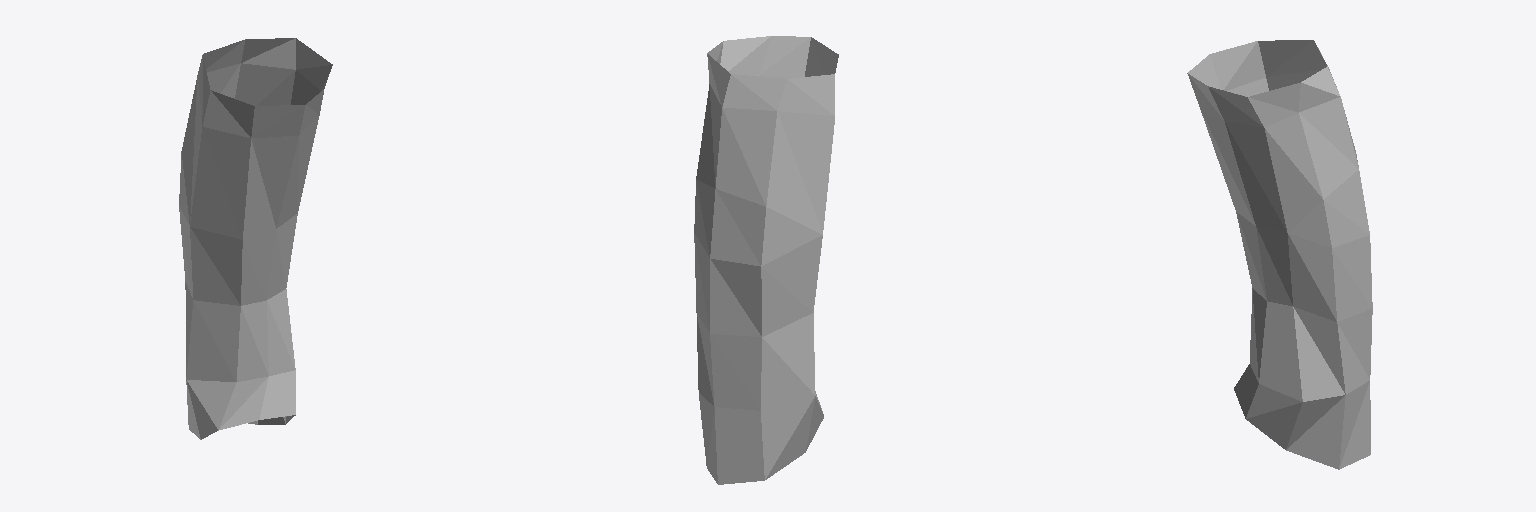
Rendered from human_rightcalve.obj.
The picture shows the model from 3 angles: view 1: azimuth 30°, elevation 25°; view 2: azimuth 150°, elevation 25°; view 3: azimuth 270°, elevation 25°; orthographic projection.
Parts seen in each view (by area): view 1: Right_Calve; view 2: Right_Calve; view 3: Right_Calve.
Boxes of the visible parts, <box> form: Right_Calve: <box>179,38,332,439</box>; Right_Calve: <box>694,36,838,484</box>; Right_Calve: <box>1187,40,1372,469</box>.
Size of the model in its own units: 0.2654 by 0.831 by 0.3519.